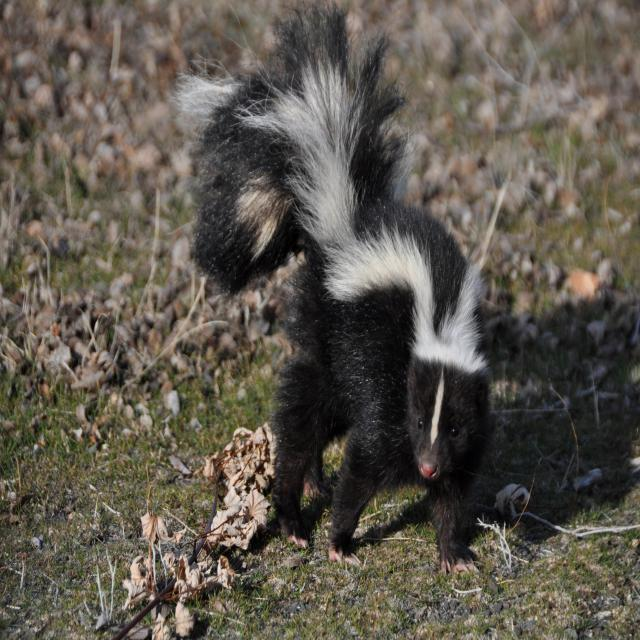Skunk: (168, 0, 513, 599)
